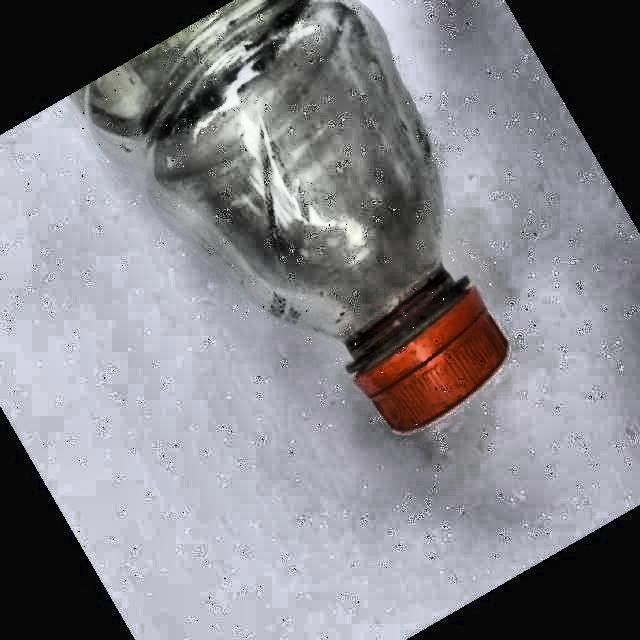plastic: (74, 0, 508, 429)
